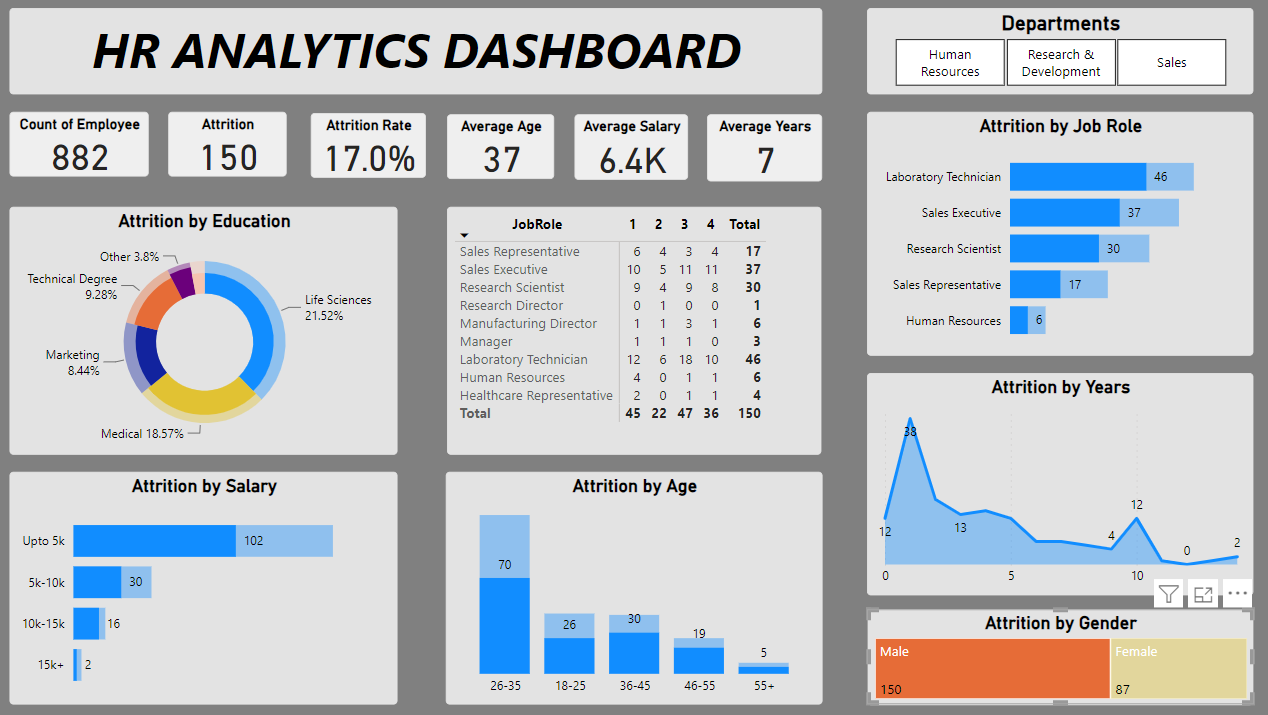

The page's visual inventory and layout, read from the dashboard file:
{"tool":"powerbi","page":{"name":"Page 1","canvas":[1280,720],"ordinal":0},"visuals":[{"type":"card","title":"Count of Employee","fields":{"Values":["CountNonNull(HR_Analytics.EmpID)"]},"box":[17,113.8,139.4,64.9],"z":0},{"type":"card","title":"Attrition","fields":{"Values":["Sum(HR_Analytics.AttritionCount)"]},"box":[176.6,113.8,118.1,64.9],"z":1000},{"type":"card","title":"Attrition Rate","fields":{"Values":["HR_Analytics.AttritionRate"]},"box":[319.1,114.9,114.9,64.9],"z":2000},{"type":"card","title":"Average Age ","fields":{"Values":["Avg(HR_Analytics.Age)"]},"box":[455.3,116,107.4,64.9],"z":3000},{"type":"card","title":"Average Salary","fields":{"Values":["Avg(HR_Analytics.MonthlyIncome)"]},"box":[583,116,113.8,66],"z":4000},{"type":"card","title":"Average Years ","fields":{"Values":["Avg(HR_Analytics.YearsAtCompany)"]},"box":[714.9,116,114.9,67],"z":5000},{"type":"donutChart","title":"Attrition by Education","fields":{"Category":["HR_Analytics.EducationField"],"Y":["Sum(HR_Analytics.AttritionCount)"]},"box":[17,208.5,388.3,247.9],"z":6000},{"type":"columnChart","title":"Attrition by Age","fields":{"Category":["HR_Analytics.AgeGroup"],"Y":["Sum(HR_Analytics.AttritionCount)"]},"box":[453.2,473.4,376.6,233],"z":7000},{"type":"pivotTable","fields":{"Rows":["HR_Analytics.JobRole"],"Columns":["HR_Analytics.JobSatisfaction"],"Values":["Sum(HR_Analytics.AttritionCount)"]},"box":[455.3,208.5,374.5,247.9],"z":8000},{"type":"barChart","title":"Attrition by Salary","fields":{"Category":["HR_Analytics.SalarySlab"],"Y":["Sum(HR_Analytics.AttritionCount)"]},"box":[17,473.4,388.3,233],"z":9000},{"type":"barChart","title":"Attrition by Job Role","fields":{"Category":["HR_Analytics.JobRole"],"Y":["Sum(HR_Analytics.AttritionCount)"]},"box":[875.5,113.8,386.2,243.6],"z":10000},{"type":"areaChart","title":"Attrition by Years","fields":{"Category":["HR_Analytics.YearsAtCompany"],"Y":["Sum(HR_Analytics.AttritionCount)"]},"box":[875,375,386.2,222.5],"z":11000},{"type":"treemap","title":"Attrition by Gender","fields":{"Group":["HR_Analytics.Gender"],"Values":["Sum(HR_Analytics.AttritionCount)"]},"box":[875.5,610.6,386.2,95.7],"z":12000},{"type":"slicer","title":"Departments","fields":{"Values":["HR_Analytics.Department"]},"box":[875.5,9.6,386.2,86.2],"z":13000},{"type":"textbox","box":[17,9.6,812.8,86.2],"z":14000}]}

Visuals, with their boxes in screenshot pixels (x1, y1, x2, y2), scaled from the page's 1280x720 canvas onto the 1268x715 screenshot:
"Count of Employee" card: 17/113/155/177
"Attrition" card: 175/113/292/177
"Attrition Rate" card: 316/114/430/179
"Average Age " card: 451/115/557/180
"Average Salary" card: 578/115/690/181
"Average Years " card: 708/115/822/182
"Attrition by Education" donutChart: 17/207/402/453
"Attrition by Age" columnChart: 449/470/822/701
pivotTable - HR_Analytics.JobRole x HR_Analytics.JobSatisfaction: 451/207/822/453
"Attrition by Salary" barChart: 17/470/402/701
"Attrition by Job Role" barChart: 867/113/1250/355
"Attrition by Years" areaChart: 867/372/1249/593
"Attrition by Gender" treemap: 867/606/1250/701
"Departments" slicer: 867/10/1250/95
textbox: 17/10/822/95
